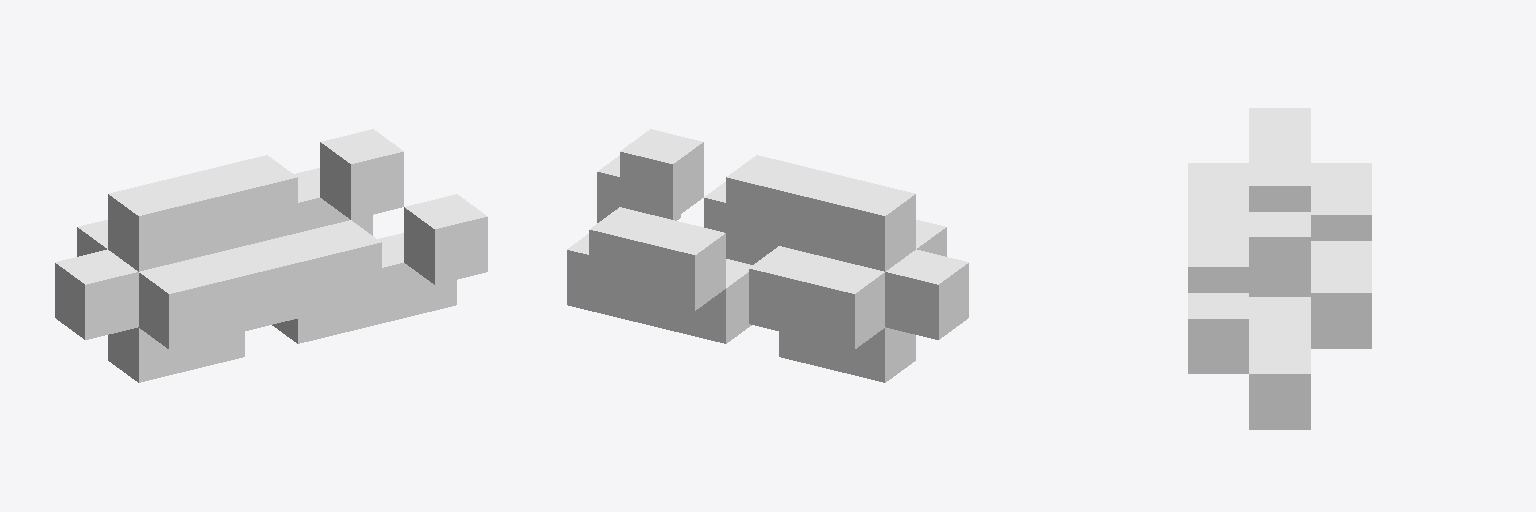
Rendered from projectile1.obj.
3 renders of one model, left to right at view 1: azimuth 30°, elevation 25°; view 2: azimuth 150°, elevation 25°; view 3: azimuth 270°, elevation 25°, orthographic.
Visible parts, largest first — view 1: object 1; view 2: object 1; view 3: object 1.
Part boxes in pixels (x1,y1,x2,y2): object 1: (55, 129, 487, 382); object 1: (567, 129, 968, 382); object 1: (1188, 108, 1371, 429).
Bounding box in the file's own units: 0.7 × 0.3 × 0.3.